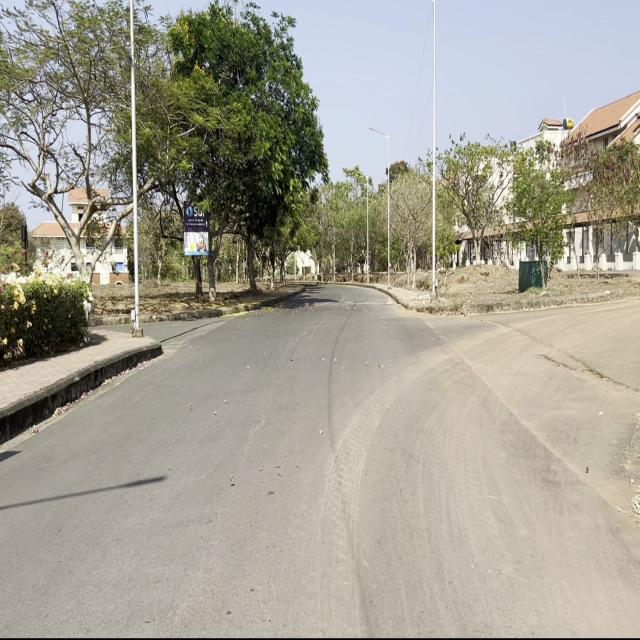Road: (2, 281, 634, 634)
